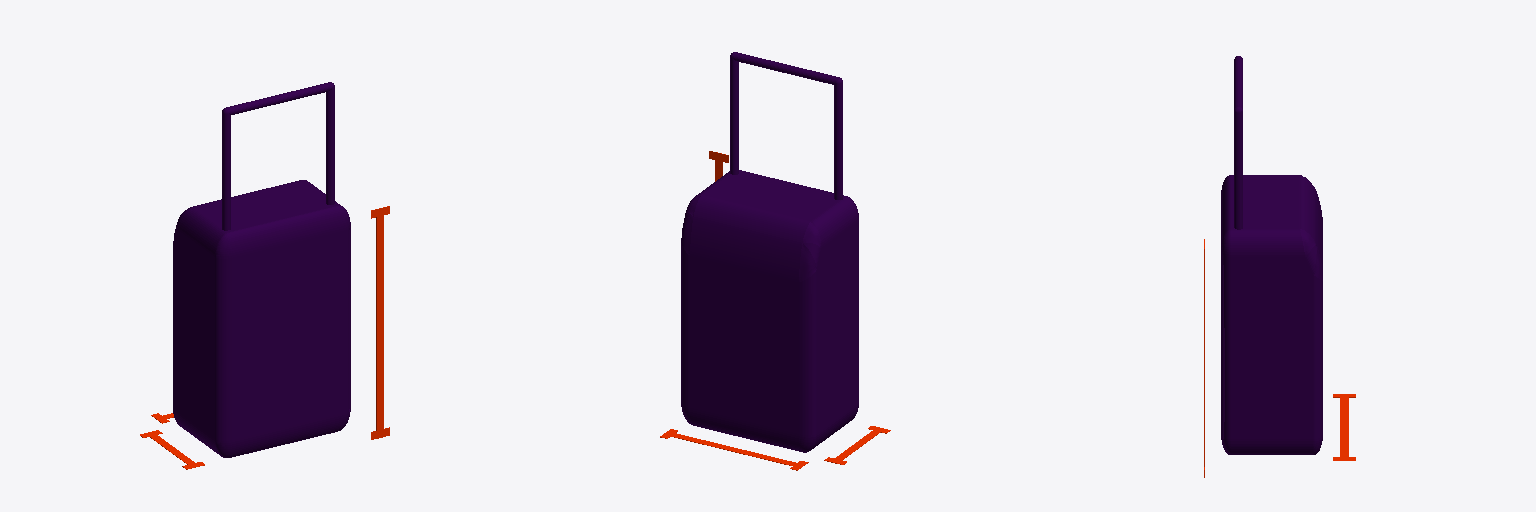
Rendered from suitcase.obj.
3 renders of one model, left to right at view 1: azimuth 30°, elevation 25°; view 2: azimuth 150°, elevation 25°; view 3: azimuth 270°, elevation 25°, orthographic.
Parts seen in each view (by area): view 1: Cube, Sphere, ruler_z_Plane.002; view 2: Cube, Sphere, ruler_y_Plane.007; view 3: Cube, Sphere, ruler_y_Plane.007.
Boxes of the visible parts, <box> form: Cube: <box>173,180,350,457</box>; Sphere: <box>222,82,334,230</box>; ruler_z_Plane.002: <box>371,206,389,439</box>; Cube: <box>681,170,858,452</box>; Sphere: <box>730,52,842,199</box>; ruler_y_Plane.007: <box>660,429,808,470</box>; Cube: <box>1221,175,1322,454</box>; Sphere: <box>1234,56,1242,229</box>; ruler_y_Plane.007: <box>1333,394,1355,460</box>.
Bounding box in the file's own units: 0.4995 × 0.8708 × 0.3405.